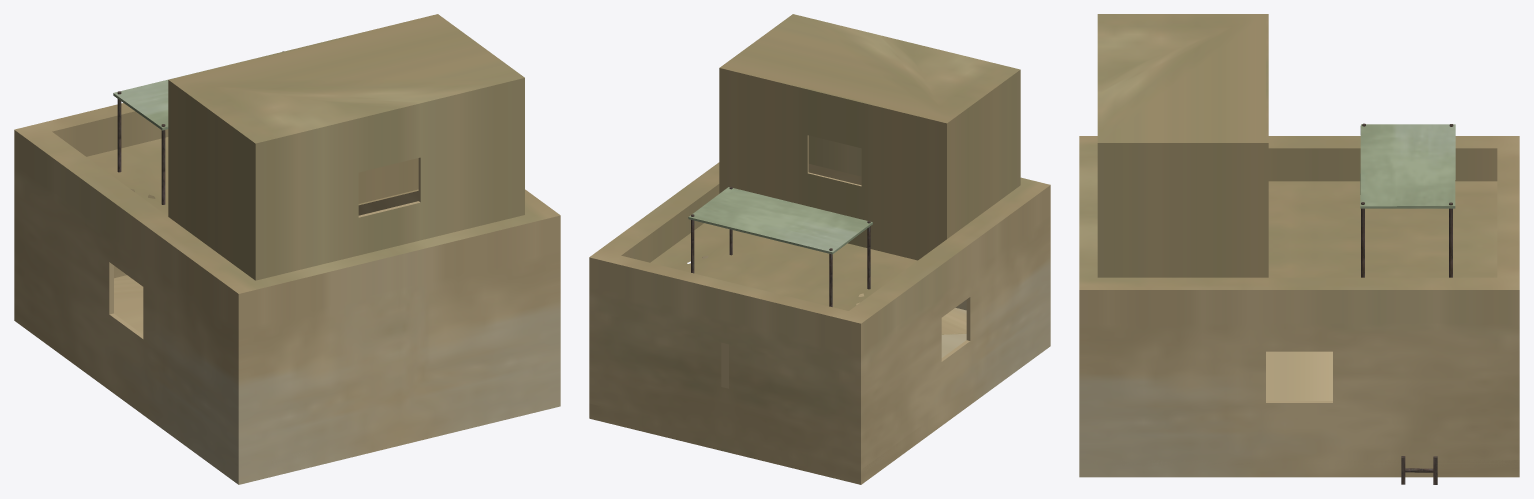
The model's file is home2floor.fbx.
3 views of the same model, side by side, from view 1: azimuth 30°, elevation 25°; view 2: azimuth 150°, elevation 25°; view 3: azimuth 270°, elevation 25° (orthographic). The views are drawn at different scales.
Visible parts, largest first — view 1: Cylinder.003; view 2: Cylinder.003; view 3: Cylinder.003.
Part boxes in pixels (<box>): Cylinder.003: <box>14,14,560,484</box>; Cylinder.003: <box>589,14,1050,484</box>; Cylinder.003: <box>1079,14,1519,484</box>.
Bounding box in the file's own units: 2757 × 2493 × 3093.
Materials: 7 (7 with a texture image).
